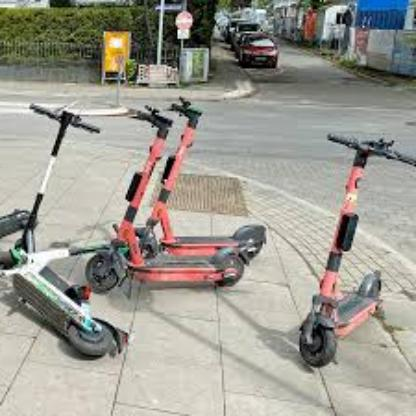bike: (3, 97, 268, 360), (298, 132, 416, 370)
car: (236, 32, 280, 69)
